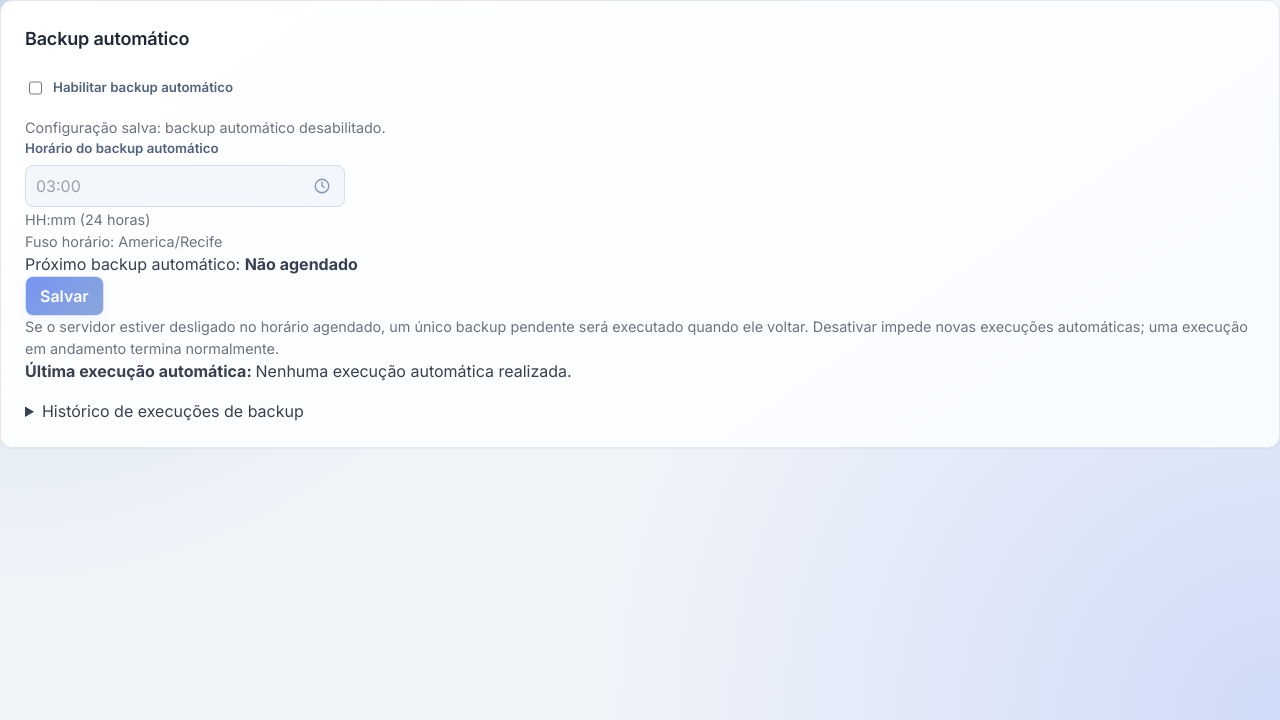
Test: backup scheduling in pt-BR › uses the existing modal to pick hours 00–23 and minutes without AM/PM
This screenshot has width=1280, height=720.
Click the checkbox labelled "Habilitar backup automático" at (36, 88), box 29,68 -> 42,108
Wait 20 ms
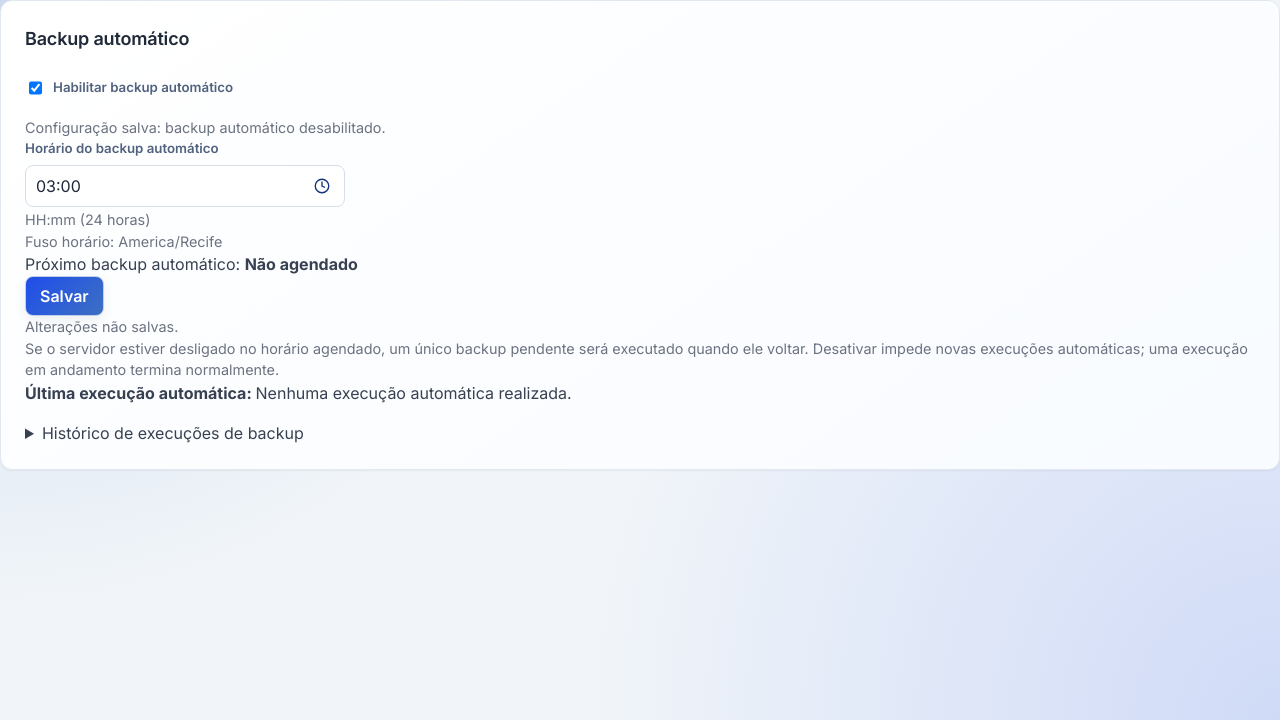
Click the button named "Abrir seletor de horário" at (322, 186), box 304,168 -> 340,204
Wait 20 ms
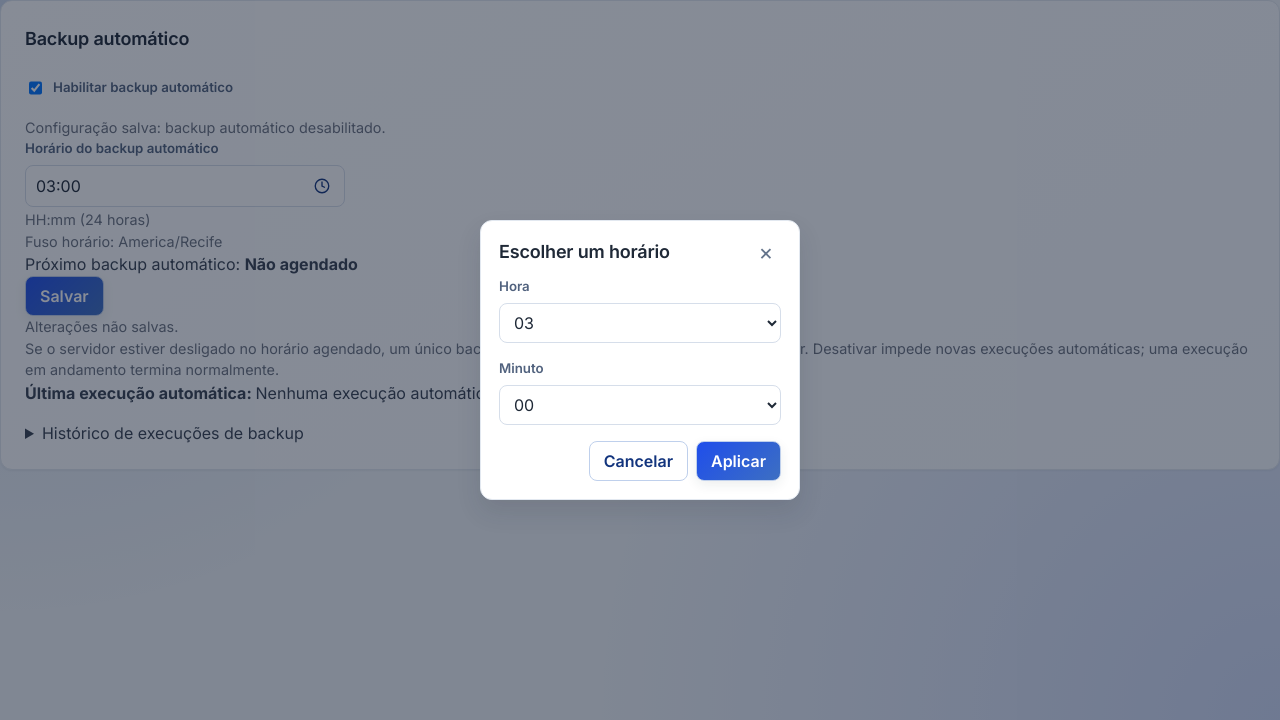
Select "23" in the dropdown with id "backup-schedule-time-hour" at (640, 323), box 499,303 -> 781,343
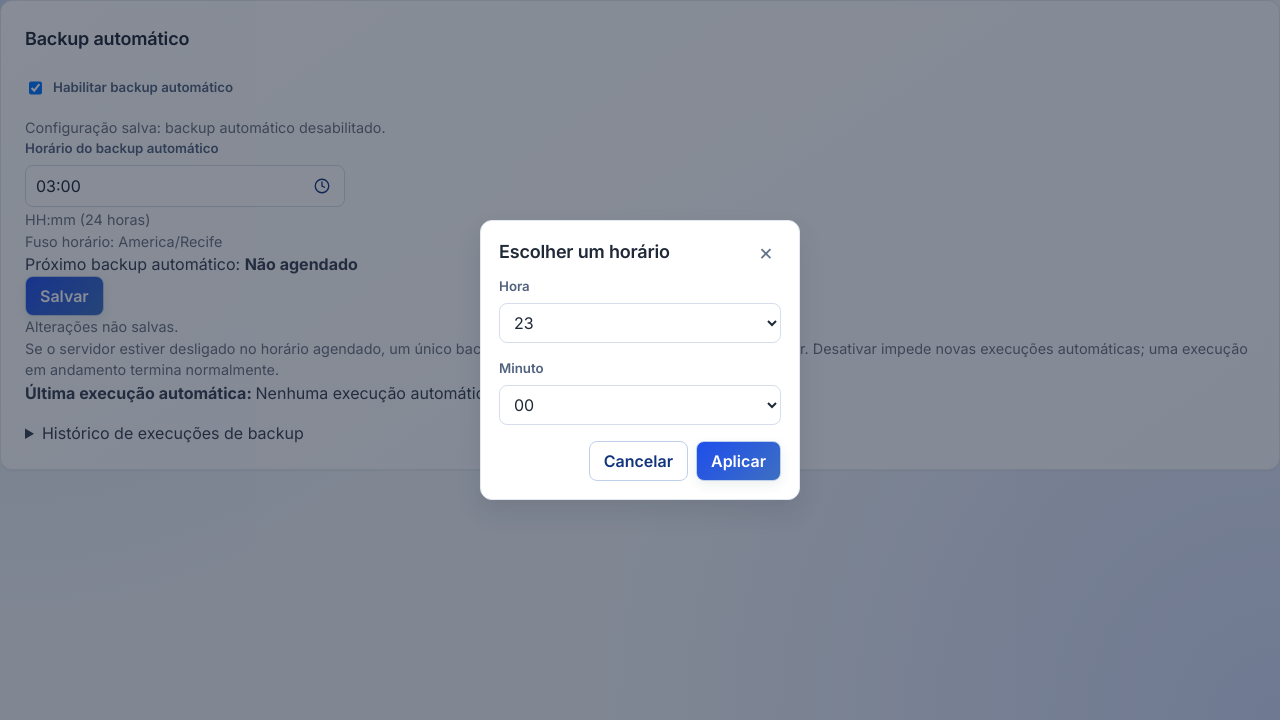
Select "59" in the dropdown with id "backup-schedule-time-minute" at (640, 405), box 499,385 -> 781,425
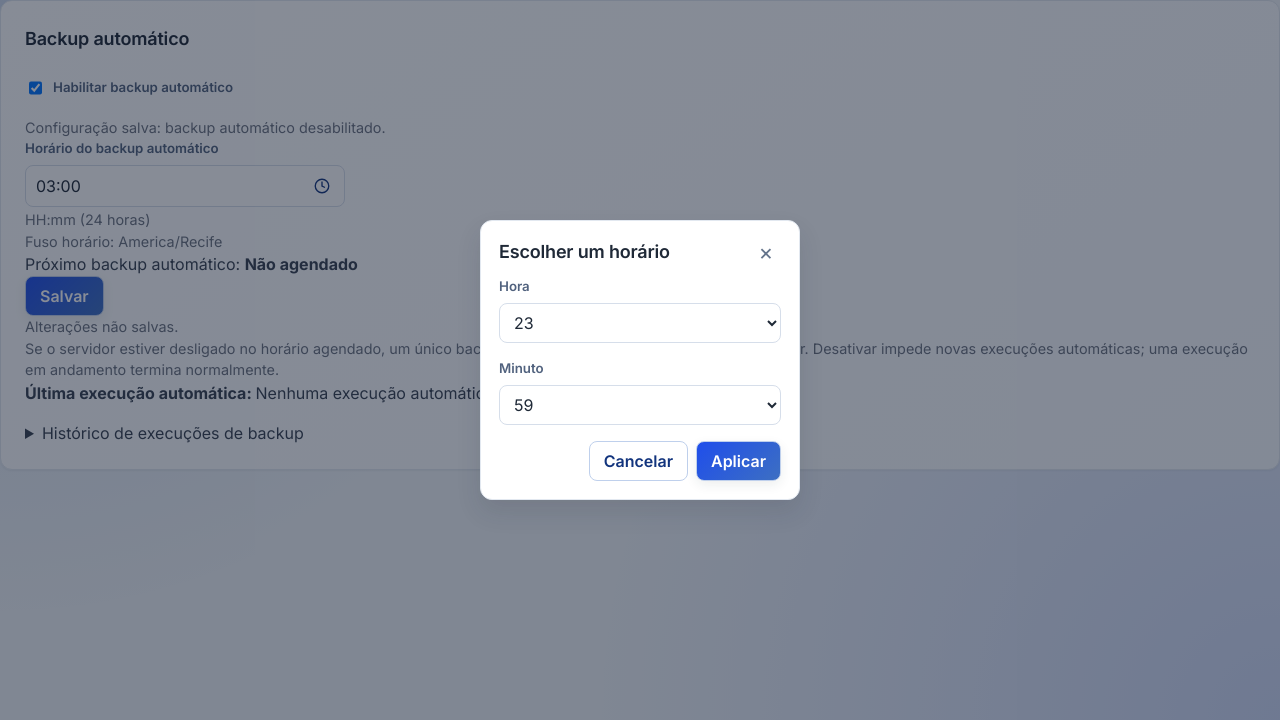
Click the button "Aplicar" at (738, 461), box 696,441 -> 781,481
Wait 20 ms
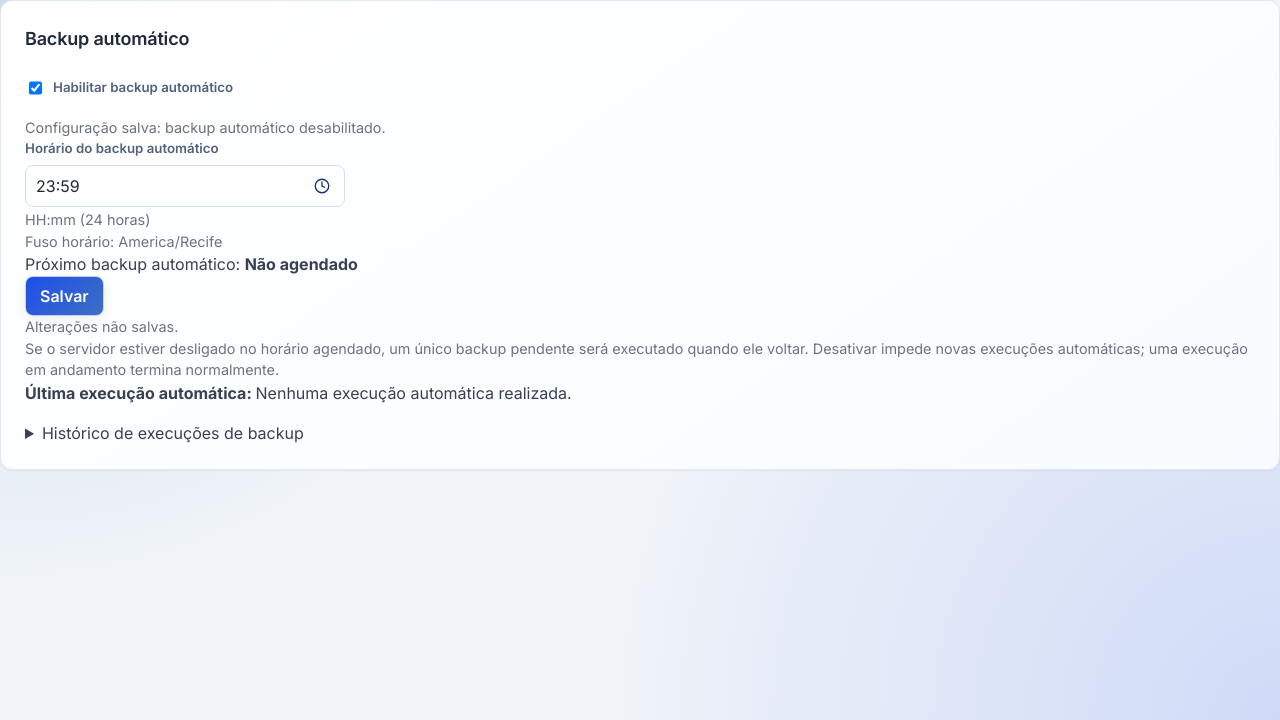
expect the field with id "backup-schedule-time" holds "23:59": met, box 25,164 -> 345,206
expect the dialog is gone: met
